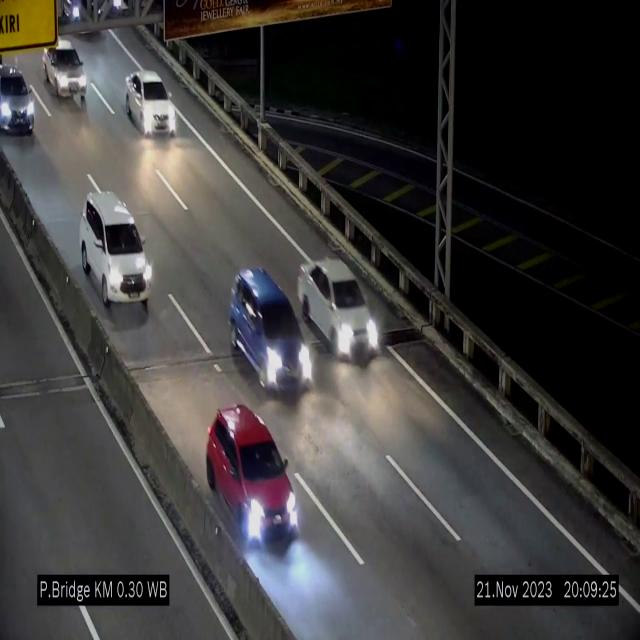Car: (207, 404, 299, 545), (230, 269, 310, 393), (80, 191, 150, 314), (297, 259, 379, 359), (125, 70, 177, 136), (46, 37, 92, 106), (0, 66, 36, 144)
